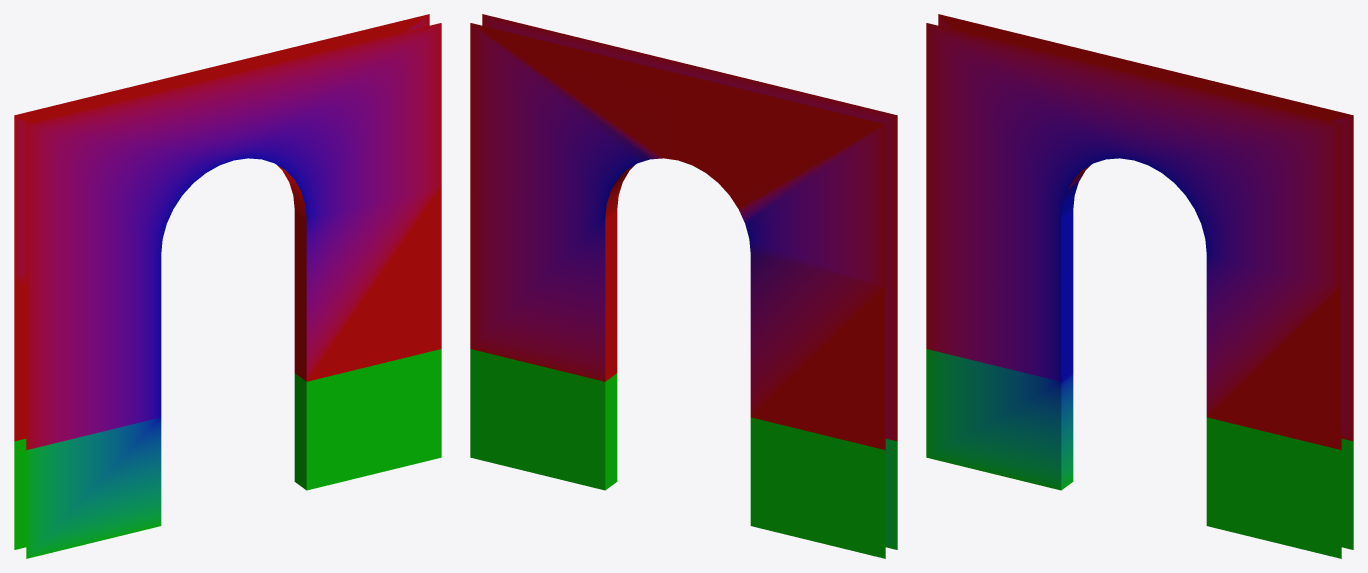
Rendered from ArchA_A_8x8.fbx.
3 views of the same model, side by side, from view 1: azimuth 30°, elevation 25°; view 2: azimuth 150°, elevation 25°; view 3: azimuth 330°, elevation 25° (orthographic).
Visible parts, largest first — view 1: Circle.004; view 2: Circle.004; view 3: Circle.004.
Boxes of the visible parts, bbox=[...] form: Circle.004: bbox=[14, 14, 441, 558]; Circle.004: bbox=[470, 14, 897, 558]; Circle.004: bbox=[926, 14, 1353, 558].
Size of the model in its own units: 800 by 800 by 40.
